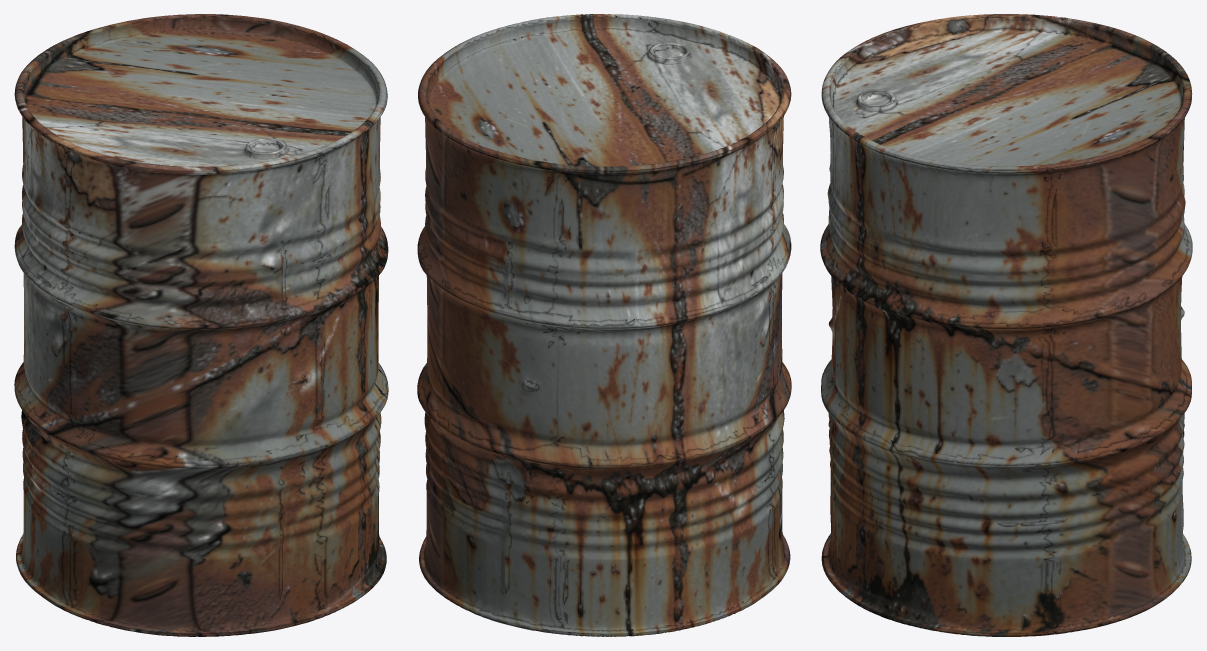
The picture shows the model from 3 angles, left to right: view 1: azimuth 30°, elevation 25°; view 2: azimuth 150°, elevation 25°; view 3: azimuth 270°, elevation 25°; orthographic projection.
Visible parts, largest first — view 1: source; view 2: source; view 3: source.
Boxes of the visible parts, <box> form: source: <box>14,14,388,636</box>; source: <box>417,14,791,636</box>; source: <box>820,14,1192,636</box>.
Bounding box in the file's own units: 1.37 × 1.9 × 1.37.
1 material, 1 textured.
